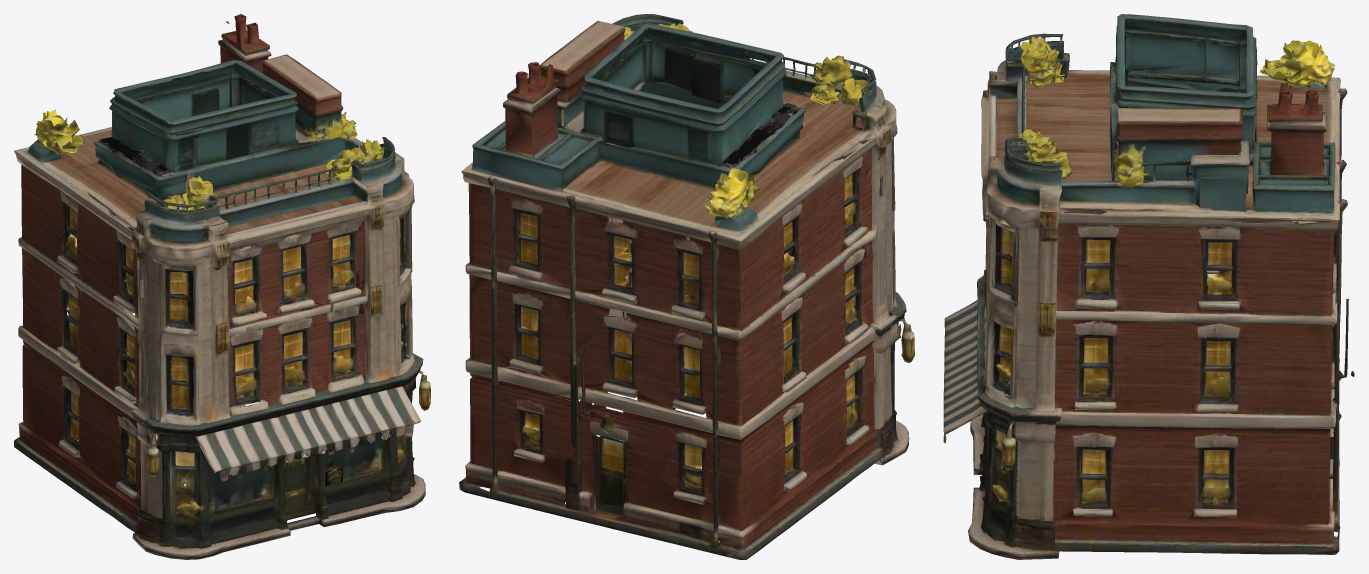
File: candidate.glb
The picture shows the model from 3 angles, left to right: view 1: azimuth 30°, elevation 25°; view 2: azimuth 150°, elevation 25°; view 3: azimuth 270°, elevation 25°; orthographic projection. The views are drawn at different scales.
Visible parts, largest first — view 1: expansion__shop_3__native_mobile; view 2: expansion__shop_3__native_mobile; view 3: expansion__shop_3__native_mobile.
Part boxes in pixels (x1,y1,x2,y2): expansion__shop_3__native_mobile: [14, 14, 430, 559]; expansion__shop_3__native_mobile: [459, 14, 914, 559]; expansion__shop_3__native_mobile: [943, 14, 1354, 559].
Size of the model in its own units: 0.7556 by 1 by 0.8461.
1 material, 1 textured.
